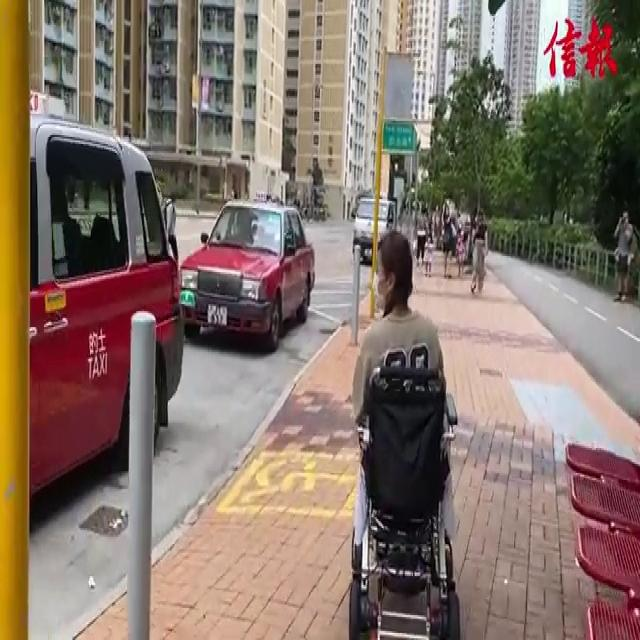wheelchairs: (331, 341, 467, 640)
